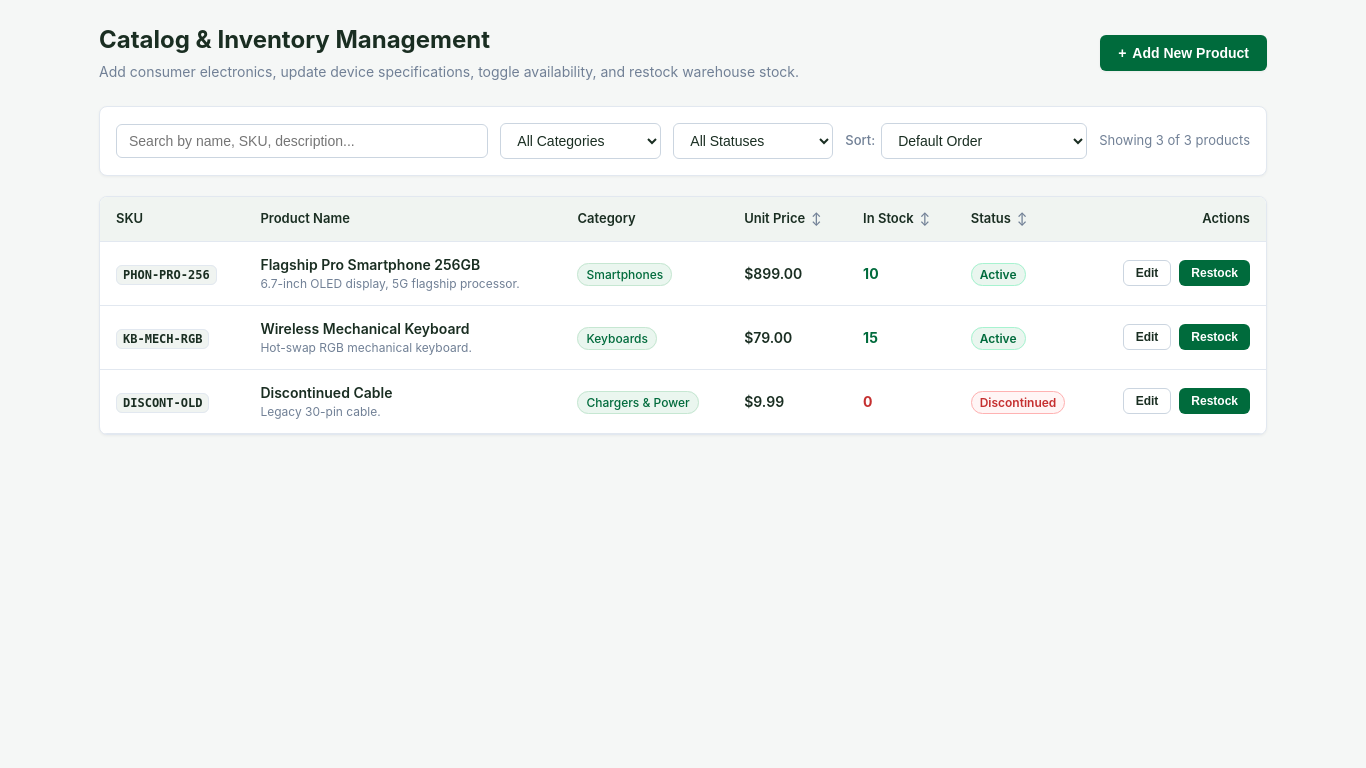
Scenario: Feature 6: Product Catalog Management Component (F-06) › opens Restock modal and submits atomic stock quantity addition
Expected: the text "Wireless Mechanical Keyboard" is shown, [260,320,469,337]
Click the button with test id "restock-btn-2" at [1215, 337], box [1179,324,1250,350]
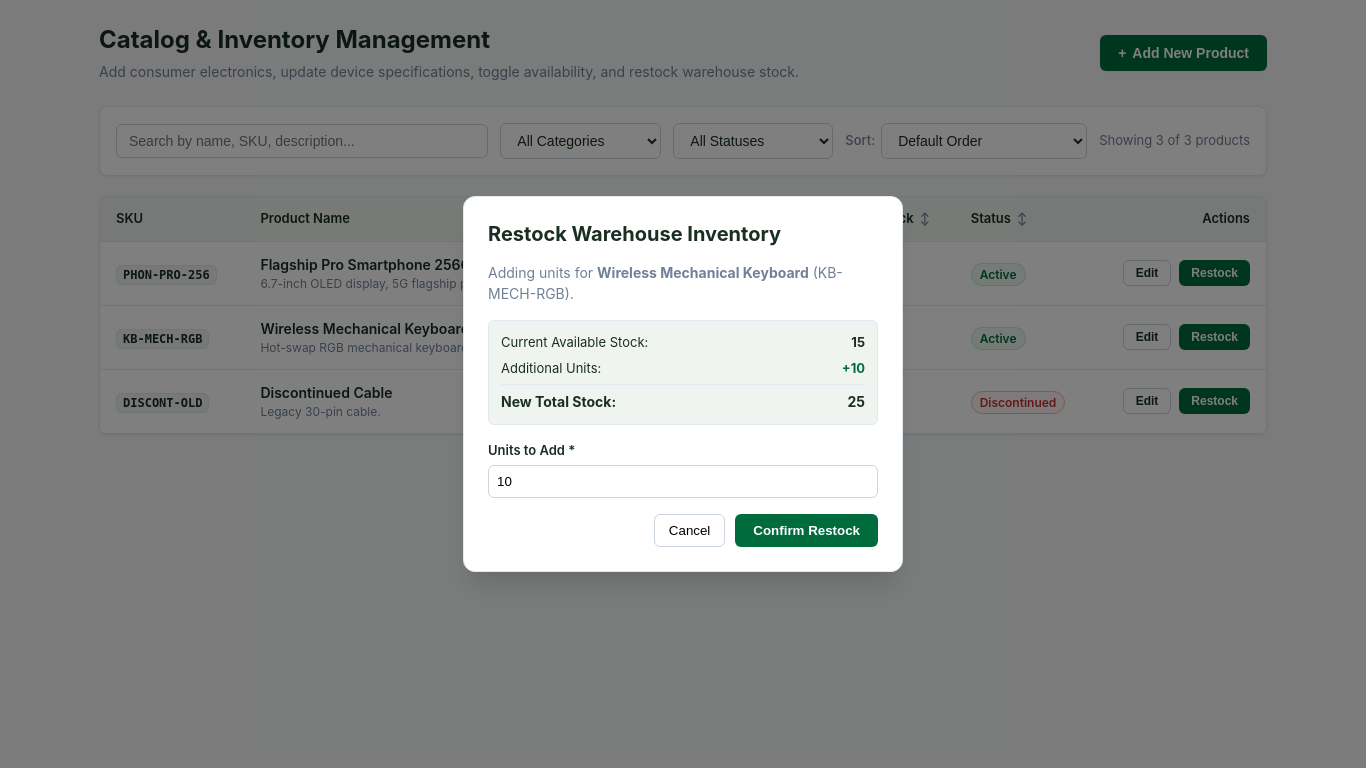
Now the element with test id "restock-modal" is shown
Now the text "Adding units for Wireless Mechanical Keyboard (KB-MECH-RGB)." is shown, box [488,262,878,304]
Replace the text in the number field with test id "input-restock-qty" with "25" at [683, 481], box [488,465,878,498]
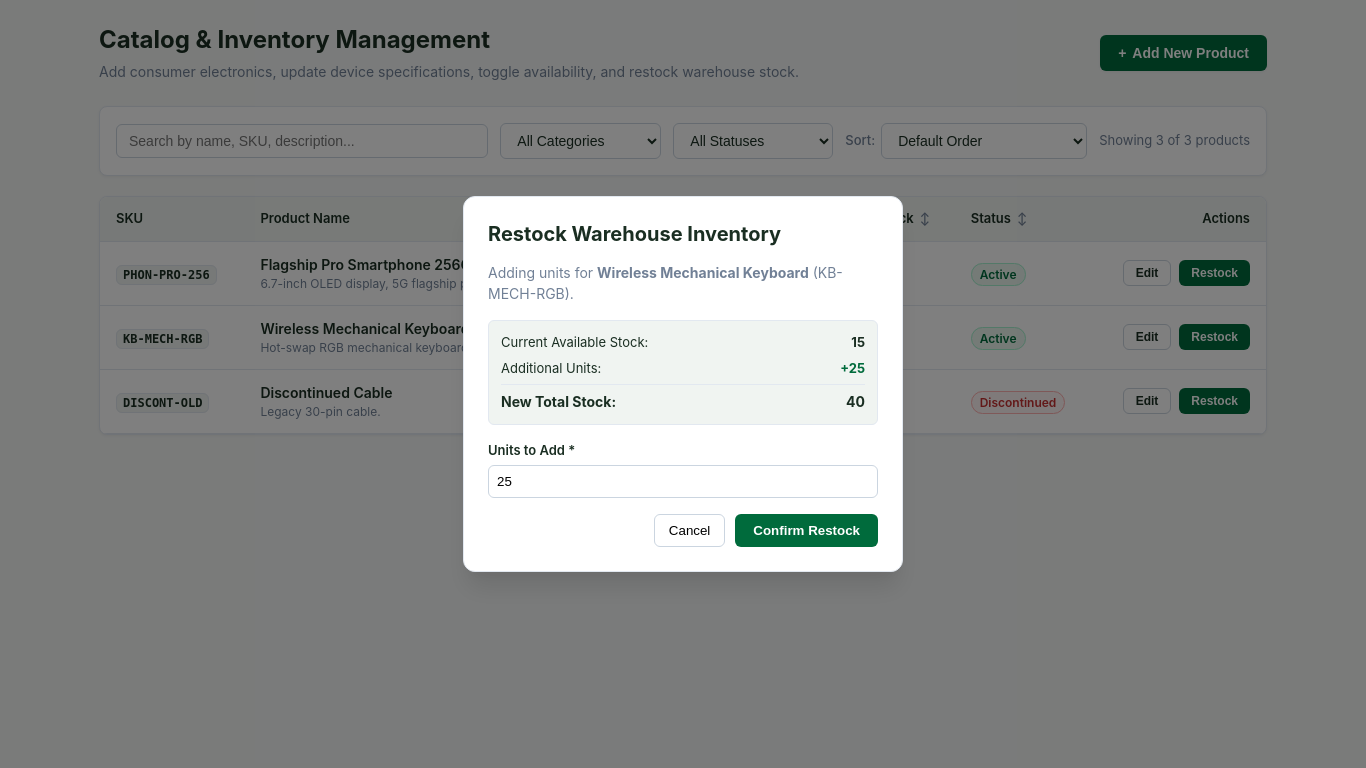
Click the button with test id "submit-restock-btn" at [807, 530], box [735,514,878,547]
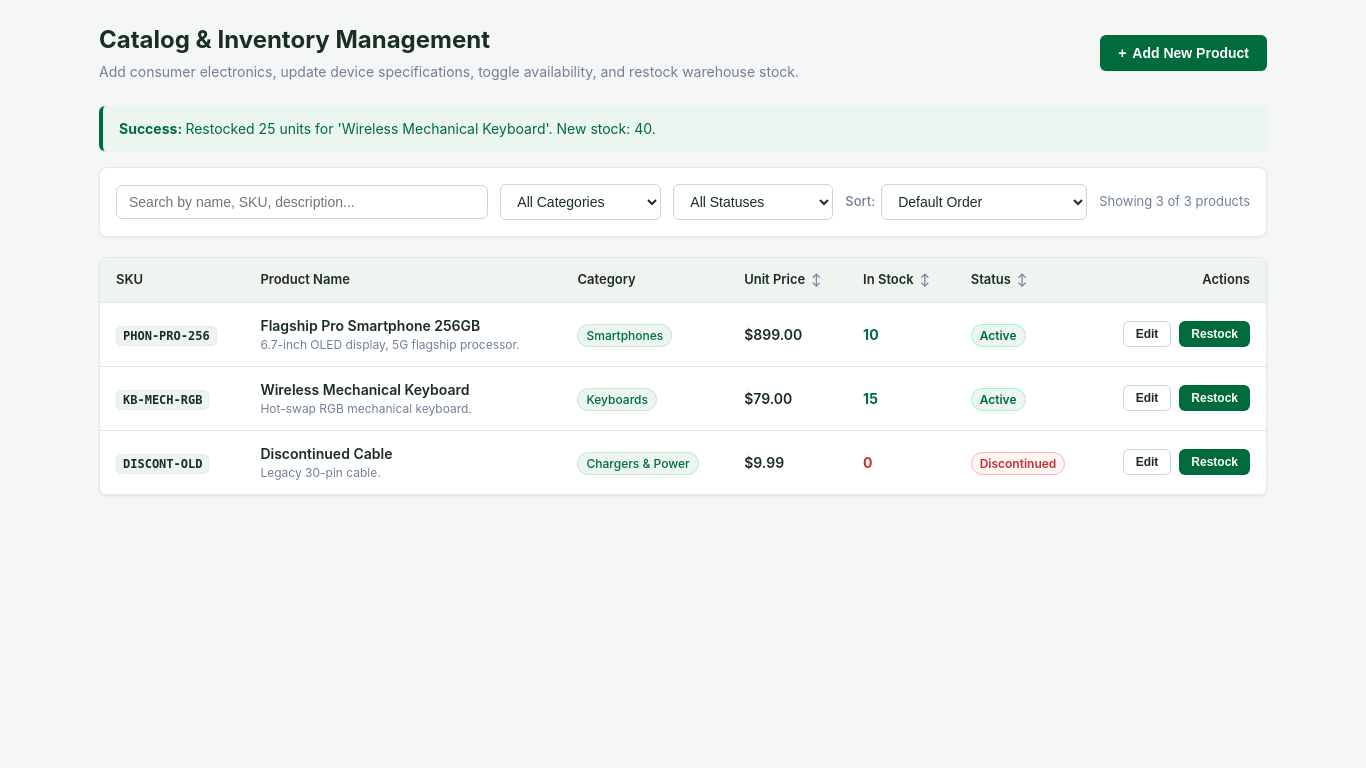
Now the element with test id "mgmt-success-banner" is shown, box [99,106,1267,151]
Now the element with test id "mgmt-success-banner" shows "Restocked 25 units", box [185,120,656,137]
